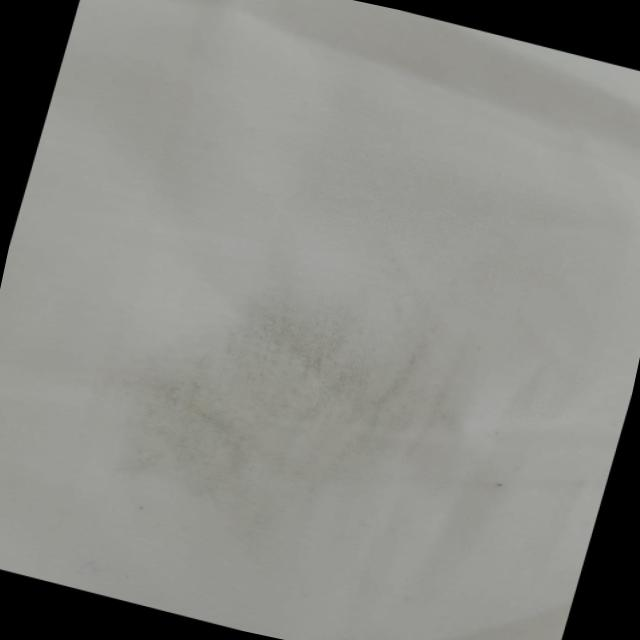stain: (102, 244, 476, 571)
